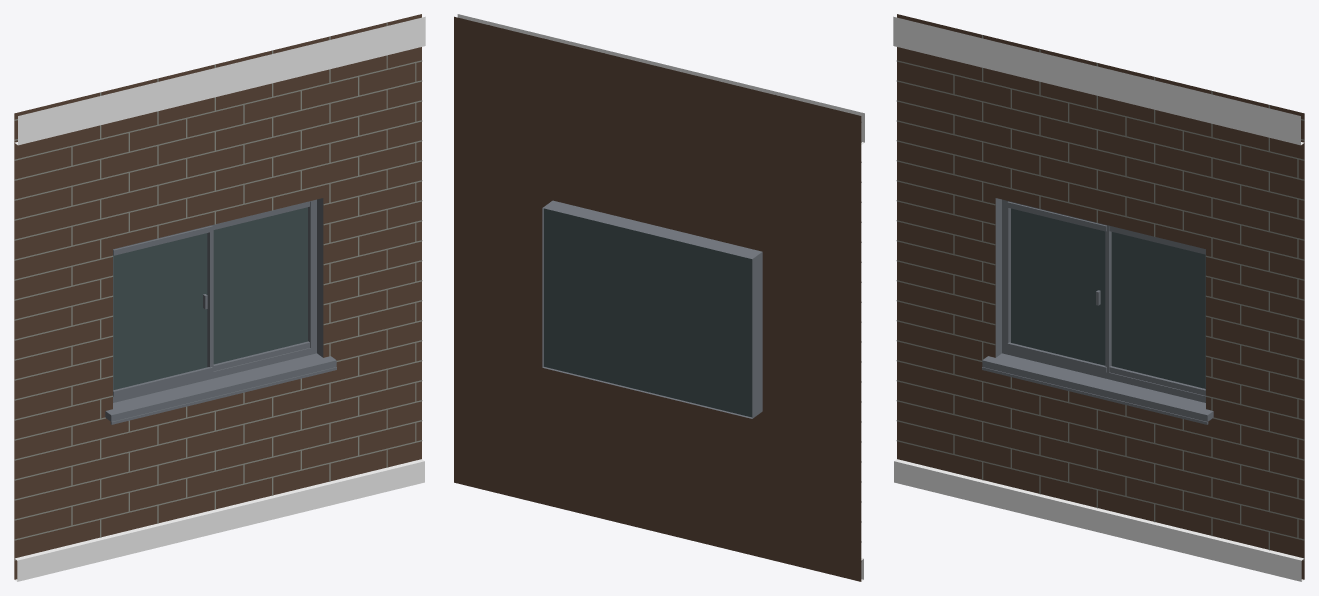
File: top-w1_close.fbx
The picture shows the model from 3 angles, left to right: view 1: azimuth 30°, elevation 25°; view 2: azimuth 150°, elevation 25°; view 3: azimuth 330°, elevation 25°; orthographic projection.
Visible parts, largest first — view 1: a2000s3/800/top-w1_close; view 2: a2000s3/800/top-w1_close; view 3: a2000s3/800/top-w1_close.
Boxes of the visible parts, left/top/right/bottom form: a2000s3/800/top-w1_close: left=14, top=14, right=425, bottom=581; a2000s3/800/top-w1_close: left=454, top=14, right=864, bottom=581; a2000s3/800/top-w1_close: left=893, top=14, right=1304, bottom=581.
Bounding box in the file's own units: 3.2 × 3.5 × 0.225.
